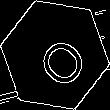O_NW: (23, 22, 87, 88)
